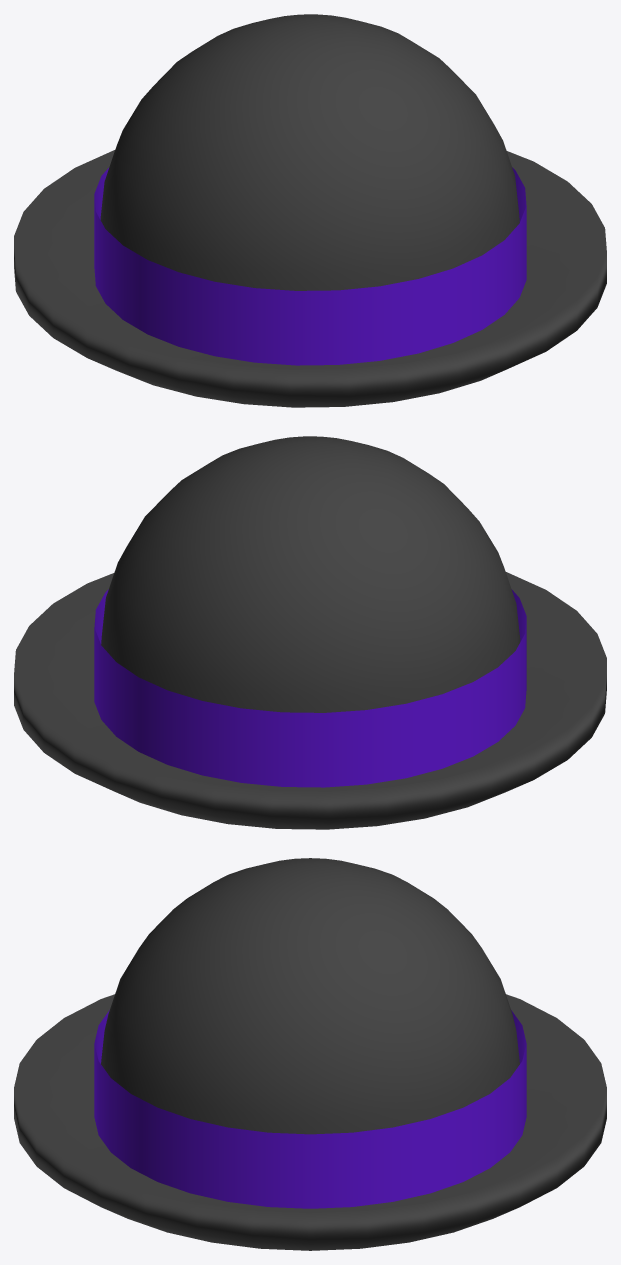
The model's file is BowlerHat.fbx.
The picture shows the model from 3 angles, top to bottom: view 1: azimuth 30°, elevation 25°; view 2: azimuth 150°, elevation 25°; view 3: azimuth 270°, elevation 25°; orthographic projection.
Parts seen in each view (by area): view 1: Sphere, Brim, Ribbon; view 2: Sphere, Brim, Ribbon; view 3: Sphere, Brim, Ribbon.
Part boxes in pixels (left/top/right/bottom): Sphere: left=100, top=14, right=519, bottom=290; Brim: left=14, top=150, right=606, bottom=407; Ribbon: left=94, top=167, right=526, bottom=365; Sphere: left=101, top=436, right=520, bottom=712; Brim: left=14, top=572, right=606, bottom=829; Ribbon: left=94, top=589, right=526, bottom=787; Sphere: left=101, top=858, right=519, bottom=1134; Brim: left=14, top=994, right=606, bottom=1250; Ribbon: left=94, top=1010, right=526, bottom=1208.
Bounding box in the file's own units: 268 × 132 × 268.
